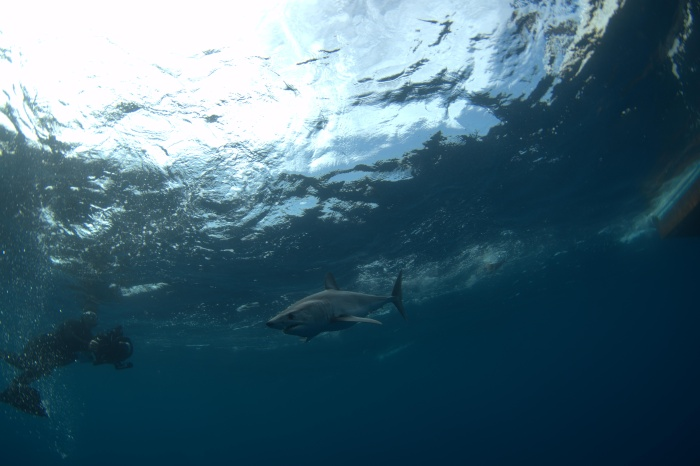Mako: (258, 251, 421, 361)
